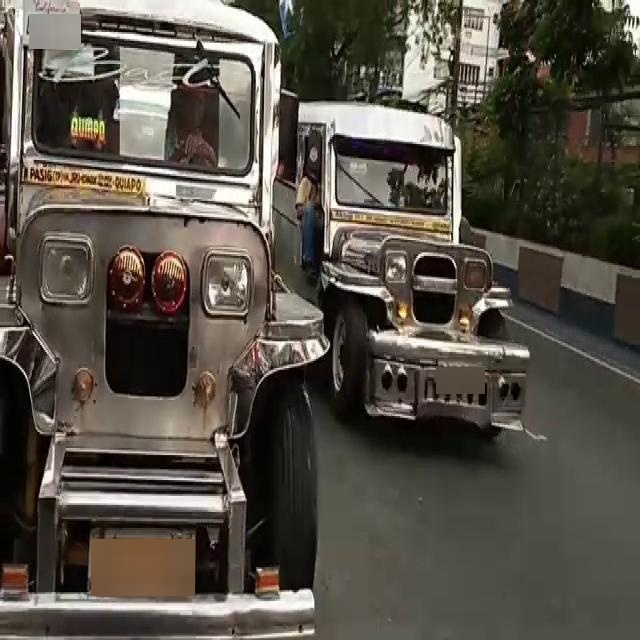jeepney: (0, 14, 312, 626), (288, 88, 522, 454)
